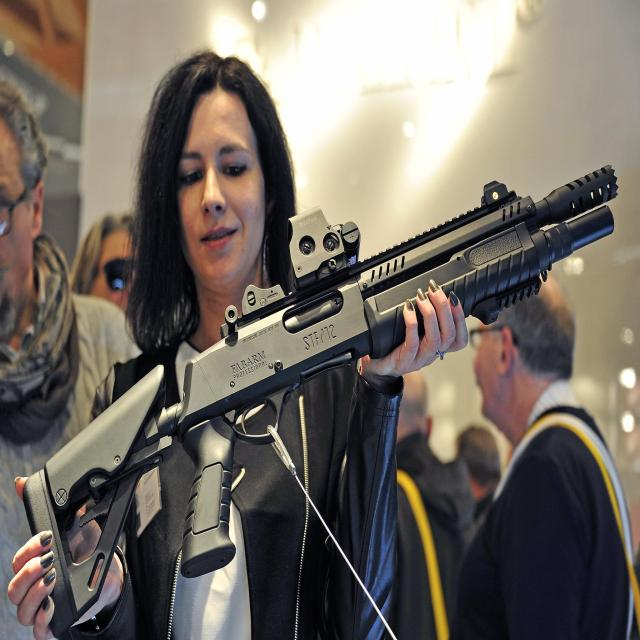ShotGun: (15, 168, 620, 640)
